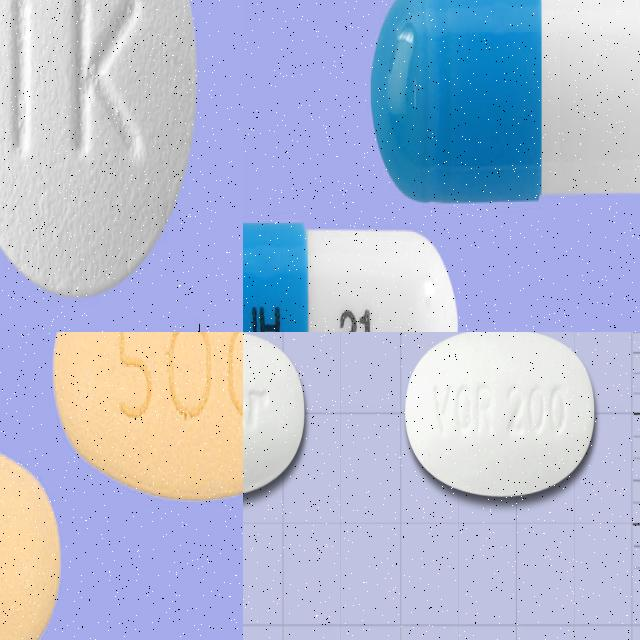Flunazole Cap: (369, 0, 640, 206), (243, 221, 460, 332)
Lesacra: (0, 0, 198, 298)
Levona: (52, 332, 243, 498)
Viramid Cap: (405, 332, 596, 496), (243, 332, 305, 497)
